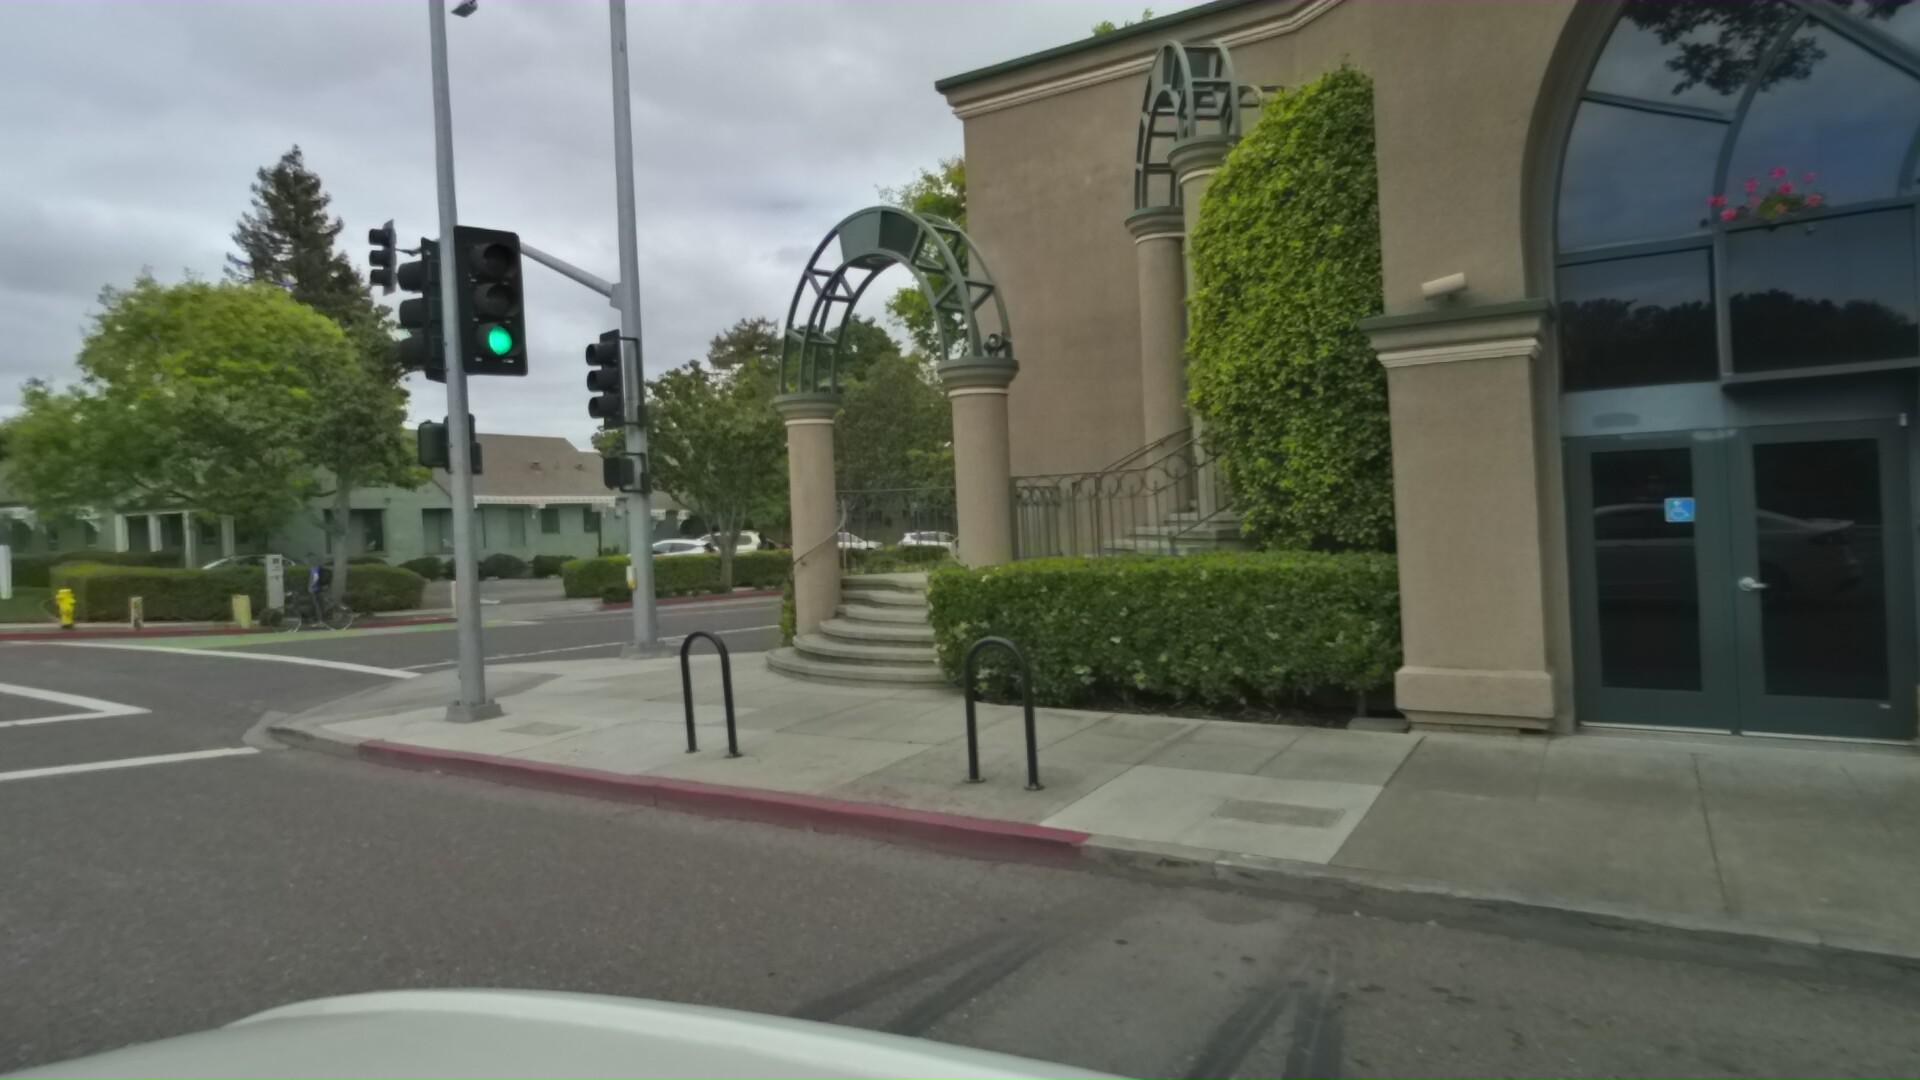bicycle: (262, 542, 371, 633)
car: (138, 542, 330, 621), (899, 520, 997, 560), (876, 533, 965, 567)
